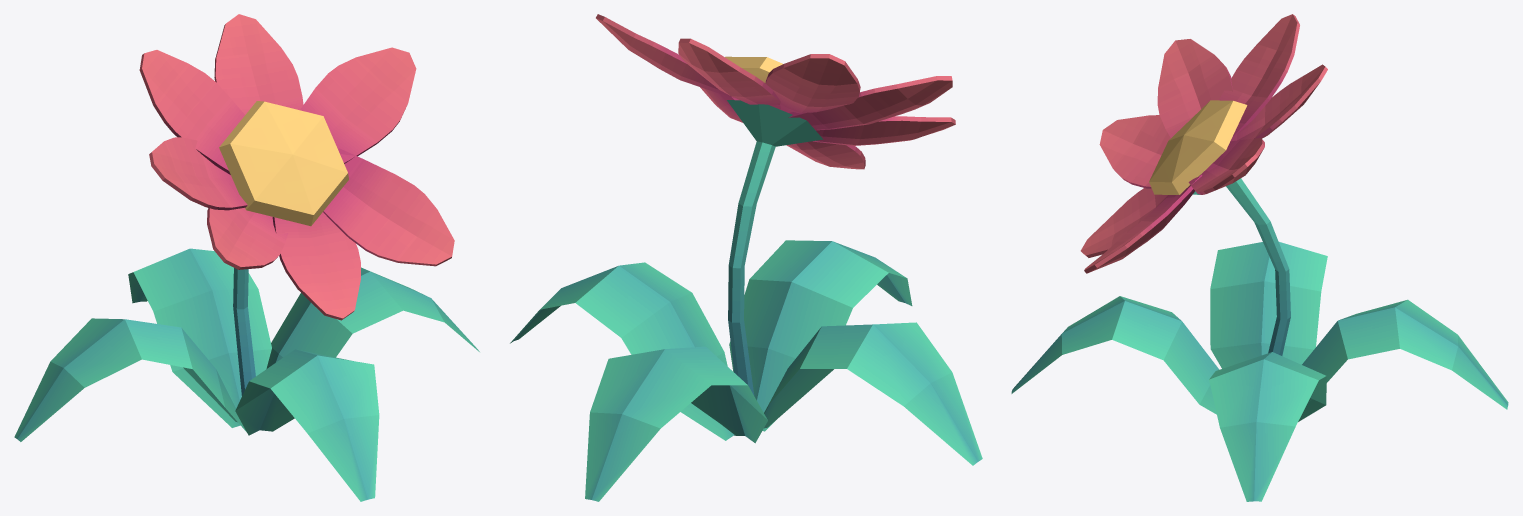
File: flower001.obj
3 renders of one model, left to right at view 1: azimuth 30°, elevation 25°; view 2: azimuth 150°, elevation 25°; view 3: azimuth 270°, elevation 25°, orthographic. The views are drawn at different scales.
Parts seen in each view (by area): view 1: flower.001; view 2: flower.001; view 3: flower.001.
Boxes of the visible parts, x1=… form: flower.001: x1=14, y1=14, x2=479, y2=501; flower.001: x1=510, y1=14, x2=982, y2=501; flower.001: x1=1011, y1=14, x2=1508, y2=501.
Bounding box in the file's own units: 2.12 × 1.76 × 2.15.
Materials: 1 (1 with a texture image).
